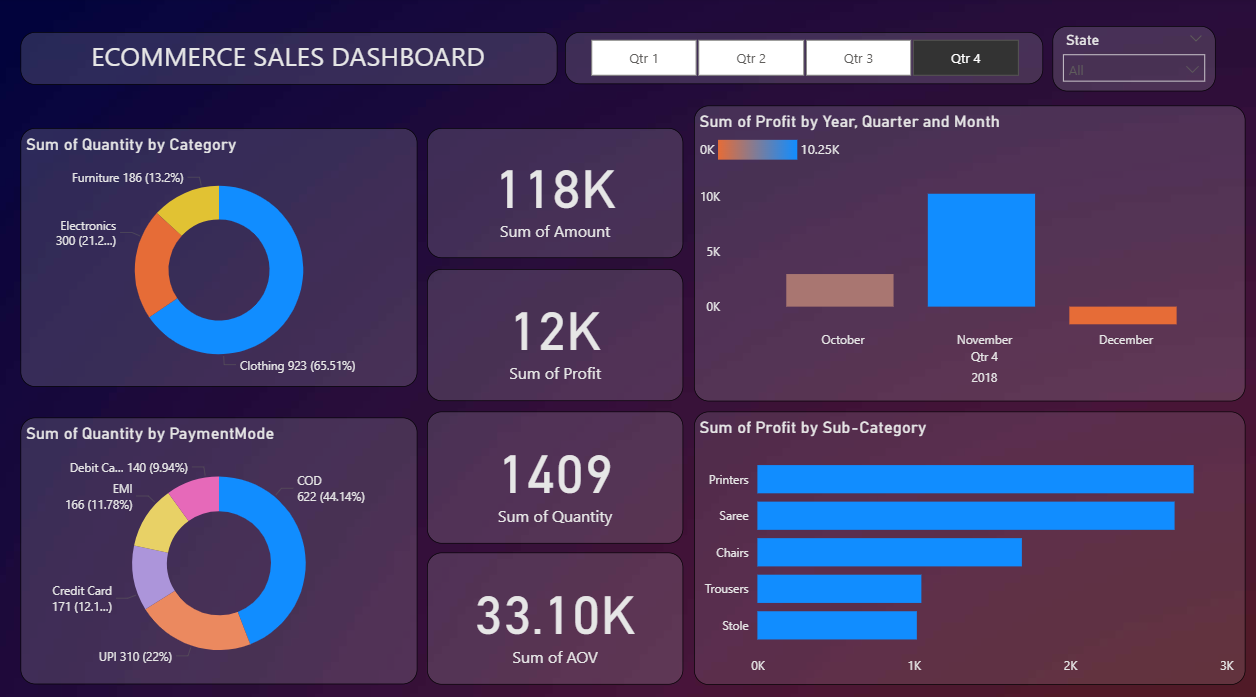

The page's visual inventory and layout, read from the dashboard file:
{"tool":"powerbi","page":{"name":"Page 1","canvas":[1280,720],"ordinal":0},"visuals":[{"type":"textbox","box":[22.4,37,541.8,53.5],"z":0},{"type":"columnChart","fields":{"Category":["Orders.Order Date.Variation.Date Hierarchy.Year","Orders.Order Date.Variation.Date Hierarchy.Quarter","Orders.Order Date.Variation.Date Hierarchy.Month"],"Y":["Sum(Details.Profit)"]},"box":[702.2,109.9,556.4,298.6],"z":1000},{"type":"barChart","fields":{"Category":["Details.Sub-Category"],"Y":["Sum(Details.Profit)"]},"box":[702.2,419.2,556.4,276.2],"z":2000},{"type":"donutChart","fields":{"Category":["Details.Category"],"Y":["Sum(Details.Quantity)"]},"box":[22.4,133.3,400.7,261.6],"z":3000},{"type":"donutChart","fields":{"Y":["Sum(Details.Quantity)"],"Category":["Details.PaymentMode"]},"box":[22.4,426,400.7,269.4],"z":4000},{"type":"card","fields":{"Values":["Sum(Details.Amount)"]},"box":[432.8,133.3,258.7,131.3],"z":5000},{"type":"card","fields":{"Values":["Sum(Details.Profit)"]},"box":[432.8,275.3,258.7,133.3],"z":6000},{"type":"card","fields":{"Values":["Sum(Details.Quantity)"]},"box":[432.8,419.2,258.7,133.3],"z":7000},{"type":"card","fields":{"Values":["Sum(Details.AOV)"]},"box":[432.8,562.2,258.7,133.3],"z":8000},{"type":"slicer","fields":{"Values":["Orders.Order Date.Variation.Date Hierarchy.Quarter"]},"box":[571.9,37,482.4,52.5],"z":9000},{"type":"slicer","fields":{"Values":["Orders.State"]},"box":[1065,30.2,164.4,66.1],"z":10000}]}

Visuals, with their boxes in screenshot pixels (x1, y1, x2, y2), scaled from the page's 1280x720 canvas onto the 1256x697 screenshot:
textbox: pyautogui.locateOnScreen(22, 36, 554, 88)
columnChart - Orders.Order Date.Variation.Date Hierarchy.Year x Orders.Order Date.Variation.Date Hierarchy.Quarter: pyautogui.locateOnScreen(689, 106, 1235, 395)
barChart - Details.Sub-Category x Sum(Details.Profit): pyautogui.locateOnScreen(689, 406, 1235, 673)
donutChart - Details.Category x Sum(Details.Quantity): pyautogui.locateOnScreen(22, 129, 415, 382)
donutChart - Sum(Details.Quantity) x Details.PaymentMode: pyautogui.locateOnScreen(22, 412, 415, 673)
card - Sum(Details.Amount): pyautogui.locateOnScreen(425, 129, 679, 256)
card - Sum(Details.Profit): pyautogui.locateOnScreen(425, 267, 679, 396)
card - Sum(Details.Quantity): pyautogui.locateOnScreen(425, 406, 679, 535)
card - Sum(Details.AOV): pyautogui.locateOnScreen(425, 544, 679, 673)
slicer - Orders.Order Date.Variation.Date Hierarchy.Quarter: pyautogui.locateOnScreen(561, 36, 1035, 87)
slicer - Orders.State: pyautogui.locateOnScreen(1045, 29, 1206, 93)
